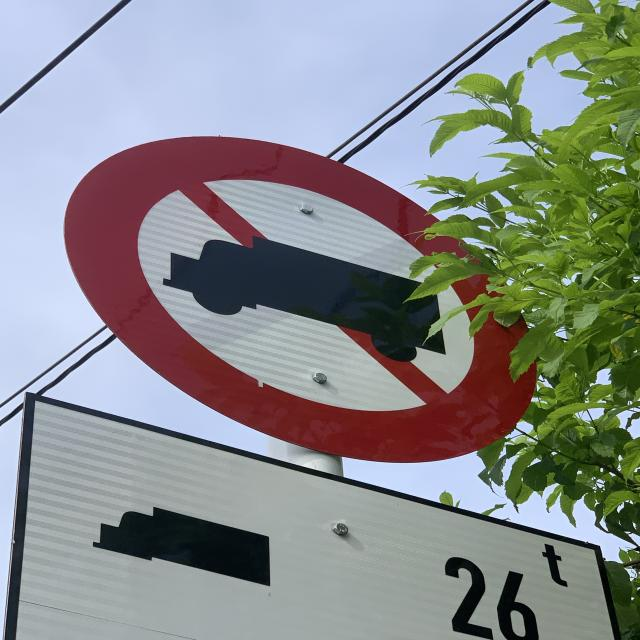Cam_Xe_Tai: (66, 133, 538, 470)
